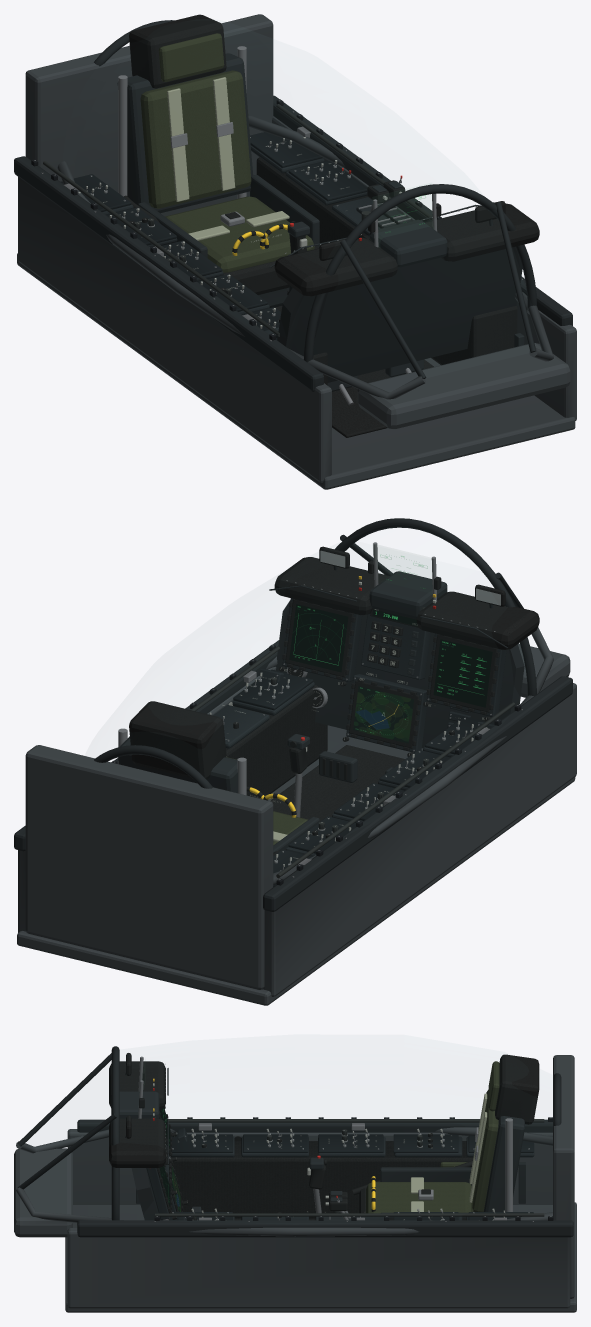
File: FA18C_Cockpit.glb
3 views of the same model, one above another, from view 1: azimuth 30°, elevation 25°; view 2: azimuth 150°, elevation 25°; view 3: azimuth 270°, elevation 25° (orthographic). The views are drawn at different scales.
Visible parts, largest first — view 1: Cockpit_Static_CP_Structure_Grey, Cockpit_Static_CP_Edge_Anodized, Cockpit_Static_CP_Rubber, Cockpit_Static_CP_Seat_Olive, Cockpit_Detail_CP3_Panel, Canopy_Pivot_CP_Edge_Anodized, Cockpit_Static_CP_Harness_Sand, Canopy_Pivot_CP_Structure_Grey, Cockpit_Static_CP_Hardware_Steel, Cockpit_Detail_CP3_Rubber, Cockpit_Static_CP_Panel_Charcoal, Cockpit_Detail_CP3_Recess; view 2: Cockpit_Static_CP_Structure_Grey, Cockpit_Static_CP_Rubber, Cockpit_Static_CP_Edge_Anodized, Cockpit_Static_CP_Panel_Charcoal, Cockpit_Detail_CP3_Panel, Canopy_Pivot_CP_Edge_Anodized, DDI_Right_Surface, DDI_Left_Surface, AMPCD_Surface, Cockpit_Detail_CP3_Rubber, Canopy_Pivot_CP_Structure_Grey, Cockpit_Static_CP_Hardware_Steel (+2 smaller); view 3: Cockpit_Static_CP_Structure_Grey, Cockpit_Static_CP_Rubber, Cockpit_Static_CP_Edge_Anodized, Cockpit_Detail_CP3_Panel, Cockpit_Static_CP_Seat_Olive, Cockpit_Detail_CP3_Rubber, Cockpit_Static_CP_Panel_Charcoal, Canopy_Pivot_CP_Structure_Grey, Canopy_Pivot_CP_Edge_Anodized, Cockpit_Static_CP_Hardware_Steel, Cockpit_Static_CP_Harness_Sand, Cockpit_Detail_CP3_Recess (+1 smaller).
Part boxes in pixels (x1=…): Cockpit_Static_CP_Structure_Grey: x1=17, y1=14, x2=576, y2=489; Cockpit_Static_CP_Edge_Anodized: x1=14, y1=53, x2=572, y2=391; Cockpit_Static_CP_Rubber: x1=42, y1=14, x2=539, y2=437; Cockpit_Static_CP_Seat_Olive: x1=140, y1=33, x2=314, y2=272; Cockpit_Detail_CP3_Panel: x1=60, y1=132, x2=367, y2=339; Canopy_Pivot_CP_Edge_Anodized: x1=94, y1=20, x2=536, y2=362; Cockpit_Static_CP_Harness_Sand: x1=167, y1=77, x2=289, y2=240; Canopy_Pivot_CP_Structure_Grey: x1=57, y1=116, x2=529, y2=359; Cockpit_Static_CP_Hardware_Steel: x1=41, y1=46, x2=522, y2=341; Cockpit_Detail_CP3_Rubber: x1=43, y1=104, x2=432, y2=336; Cockpit_Static_CP_Panel_Charcoal: x1=102, y1=145, x2=396, y2=337; Cockpit_Detail_CP3_Recess: x1=31, y1=99, x2=521, y2=340; Cockpit_Static_CP_Structure_Grey: x1=17, y1=627, x2=576, y2=1005; Cockpit_Static_CP_Rubber: x1=129, y1=546, x2=539, y2=855; Cockpit_Static_CP_Edge_Anodized: x1=14, y1=534, x2=572, y2=911; Cockpit_Static_CP_Panel_Charcoal: x1=213, y1=598, x2=506, y2=856; Cockpit_Detail_CP3_Panel: x1=233, y1=669, x2=494, y2=886; Canopy_Pivot_CP_Edge_Anodized: x1=94, y1=518, x2=536, y2=788; DDI_Right_Surface: x1=433, y1=639, x2=492, y2=707; DDI_Left_Surface: x1=289, y1=604, x2=348, y2=672; AMPCD_Surface: x1=353, y1=686, x2=413, y2=743; Cockpit_Detail_CP3_Rubber: x1=117, y1=596, x2=514, y2=878; Canopy_Pivot_CP_Structure_Grey: x1=266, y1=656, x2=533, y2=884; Cockpit_Static_CP_Hardware_Steel: x1=118, y1=542, x2=522, y2=877; Cockpit_Static_CP_Structure_Grey: x1=14, y1=1055, x2=576, y2=1312; Cockpit_Static_CP_Rubber: x1=109, y1=1053, x2=539, y2=1220; Cockpit_Static_CP_Edge_Anodized: x1=17, y1=1053, x2=573, y2=1237; Cockpit_Detail_CP3_Panel: x1=169, y1=1134, x2=533, y2=1220; Cockpit_Static_CP_Seat_Olive: x1=366, y1=1061, x2=499, y2=1213; Cockpit_Detail_CP3_Rubber: x1=151, y1=1117, x2=544, y2=1220; Cockpit_Static_CP_Panel_Charcoal: x1=146, y1=1128, x2=534, y2=1220; Canopy_Pivot_CP_Structure_Grey: x1=120, y1=1127, x2=552, y2=1236; Canopy_Pivot_CP_Edge_Anodized: x1=111, y1=1046, x2=561, y2=1220; Cockpit_Static_CP_Hardware_Steel: x1=138, y1=1056, x2=533, y2=1221; Cockpit_Static_CP_Harness_Sand: x1=410, y1=1093, x2=487, y2=1211; Cockpit_Detail_CP3_Recess: x1=154, y1=1117, x2=553, y2=1220.
Bounding box in the file's own units: 1.18 × 1.1 × 2.58.
Materials: 27 (10 with a texture image).
